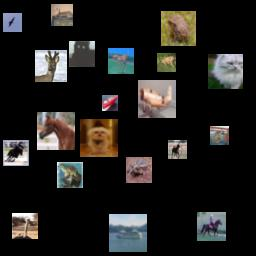airplane: (138, 80, 176, 118)
bird: (12, 213, 38, 239), (3, 13, 22, 32)
cat: (208, 54, 243, 89), (69, 41, 95, 67), (51, 4, 73, 26), (210, 126, 229, 145)
deer: (35, 50, 67, 82), (157, 53, 176, 72)
dog: (80, 119, 118, 157)
frog: (161, 11, 196, 46), (126, 157, 152, 183), (57, 162, 83, 188)
ship: (109, 214, 147, 252), (102, 95, 118, 111)
